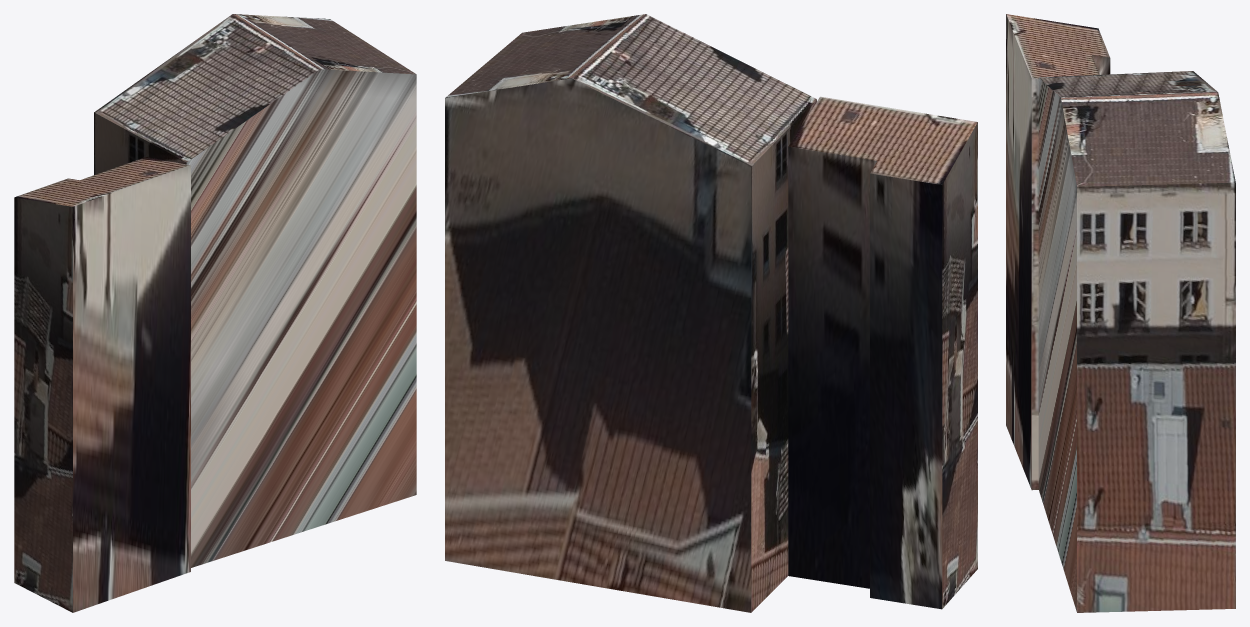
3 renders of one model, left to right at view 1: azimuth 30°, elevation 25°; view 2: azimuth 150°, elevation 25°; view 3: azimuth 270°, elevation 25°, orthographic. The views are drawn at different scales.
Visible parts, largest first — view 1: Z_UP; view 2: Z_UP; view 3: Z_UP.
Boxes of the visible parts, x1,y1,x2,y2 form: Z_UP: (14,14,416,612); Z_UP: (445,14,977,612); Z_UP: (1006,14,1235,612).
Size of the model in its own units: 19.83 by 22.13 by 9.93.
2 materials, 1 textured.
